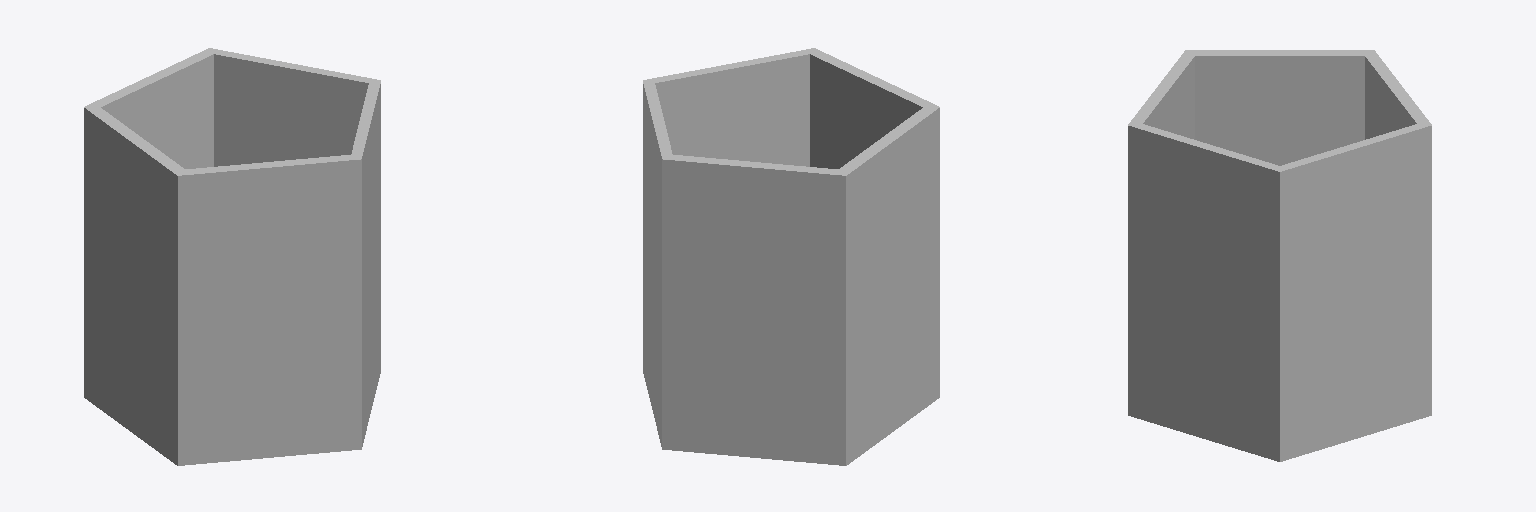
File: pot.obj
3 renders of one model, left to right at view 1: azimuth 30°, elevation 25°; view 2: azimuth 150°, elevation 25°; view 3: azimuth 270°, elevation 25°, orthographic.
Parts seen in each view (by area): view 1: pCylinder1; view 2: pCylinder1; view 3: pCylinder1.
Boxes of the visible parts, box(x1,y1,x2,y2) form: pCylinder1: box(84, 48, 380, 465); pCylinder1: box(643, 48, 939, 465); pCylinder1: box(1128, 50, 1431, 461).
Size of the model in its own units: 1.81 by 2 by 1.9.